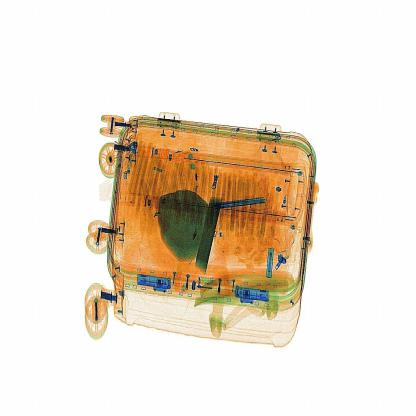pliers: (209, 190, 282, 214)
